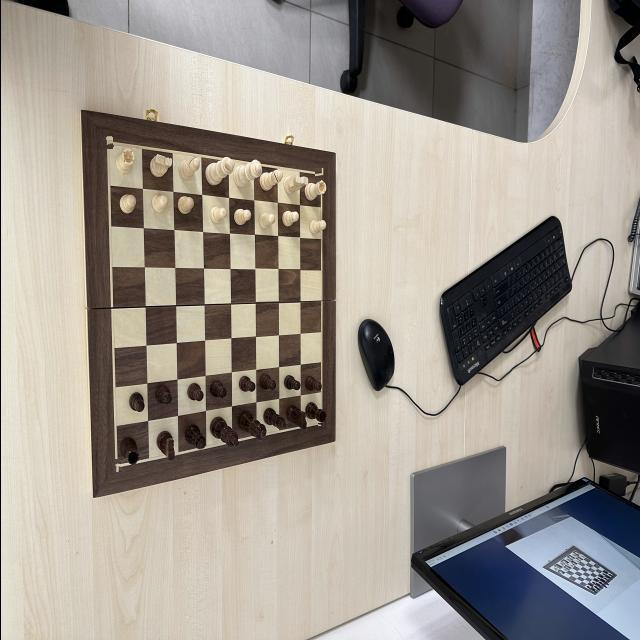chess-table-corners: (101, 136, 112, 150), (314, 168, 324, 180), (112, 459, 120, 472), (317, 423, 324, 426)
